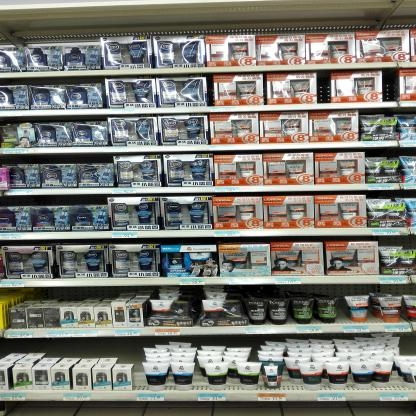Void: (17, 340, 138, 359), (16, 289, 115, 301), (0, 196, 108, 204)
